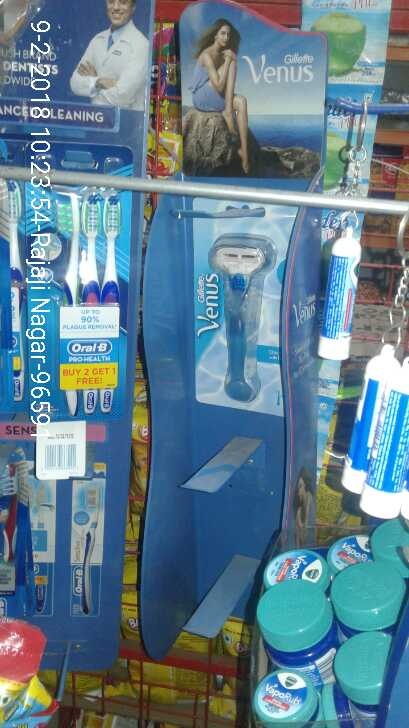beauty: (186, 196, 290, 414)
pharmacy: (262, 546, 400, 726), (52, 190, 117, 407), (337, 342, 409, 514), (318, 226, 362, 363)
